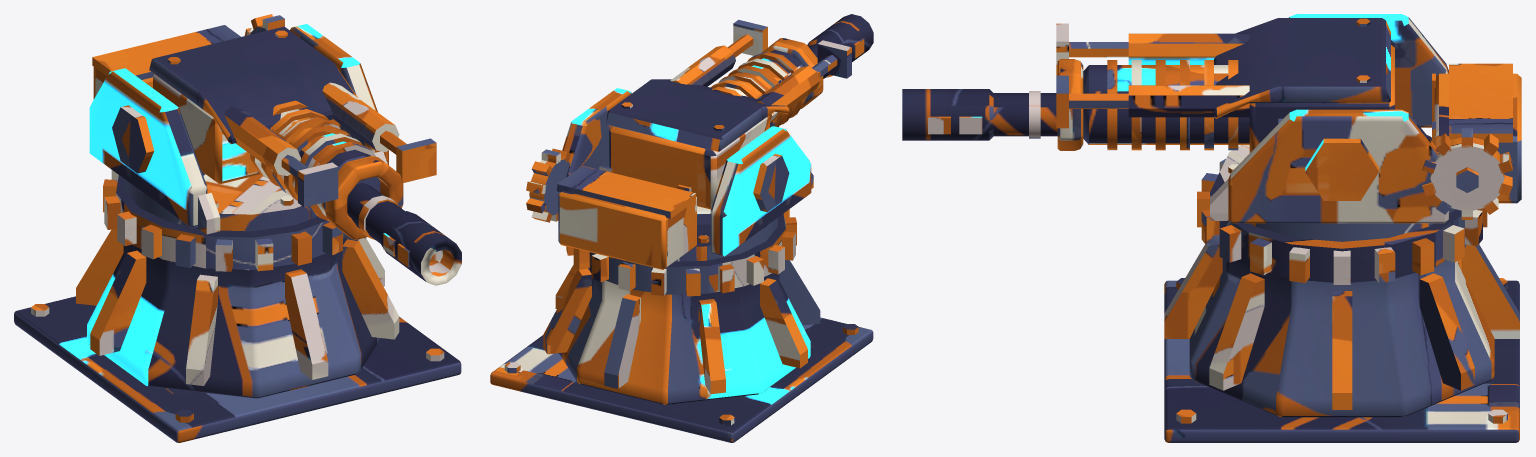
Rendered from R4W_Basic_LOD1.fbx.
3 views of the same model, side by side, from view 1: azimuth 30°, elevation 25°; view 2: azimuth 150°, elevation 25°; view 3: azimuth 270°, elevation 25° (orthographic). The views are drawn at different scales.
Visible parts, largest first — view 1: R4W_Basic_LOD1; view 2: R4W_Basic_LOD1; view 3: R4W_Basic_LOD1.
Part boxes in pixels (box(x1,y1,x2,y2)): R4W_Basic_LOD1: box(14, 14, 461, 442); R4W_Basic_LOD1: box(490, 14, 873, 442); R4W_Basic_LOD1: box(902, 14, 1521, 442).
Size of the model in its own units: 0.5 by 0.496 by 0.87.
